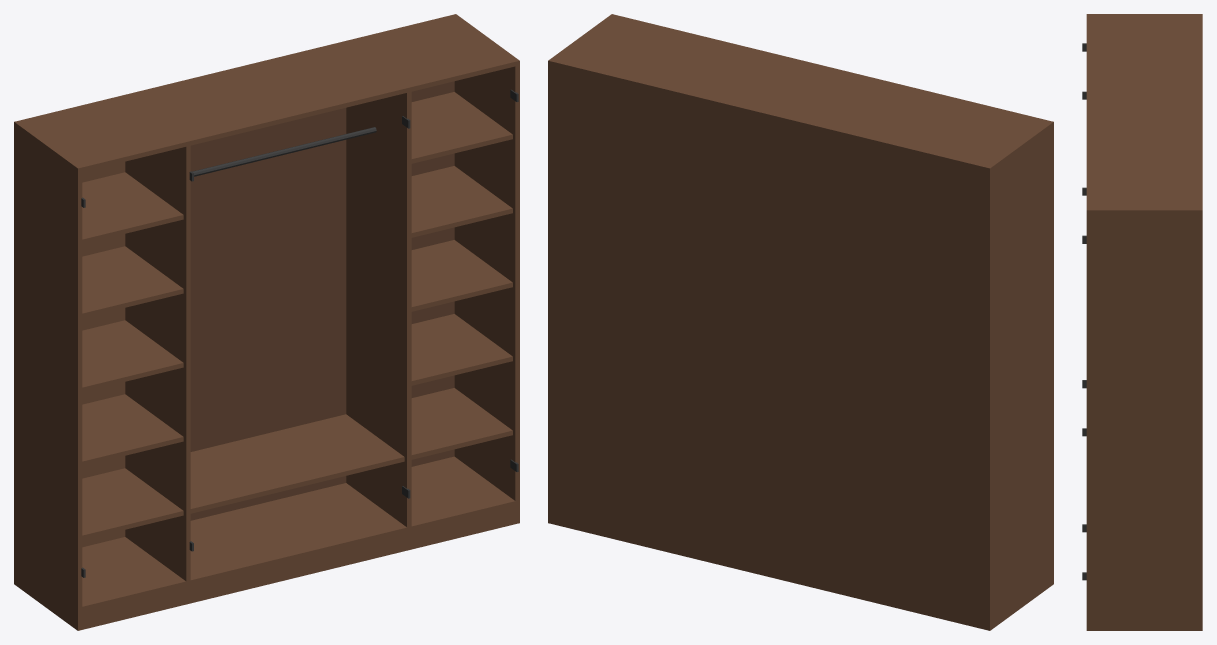
File: Wardrobe3_C3.fbx
3 renders of one model, left to right at view 1: azimuth 30°, elevation 25°; view 2: azimuth 150°, elevation 25°; view 3: azimuth 270°, elevation 25°, orthographic. The views are drawn at different scales.
Parts seen in each view (by area): view 1: Wardrobe3_C3; view 2: Wardrobe3_C3; view 3: Wardrobe3_C3.
Part boxes in pixels (x1,y1,x2,y2): Wardrobe3_C3: (14, 14, 519, 630); Wardrobe3_C3: (548, 14, 1053, 630); Wardrobe3_C3: (1082, 14, 1202, 630).
Size of the model in its own units: 200 by 200 by 51.79.
